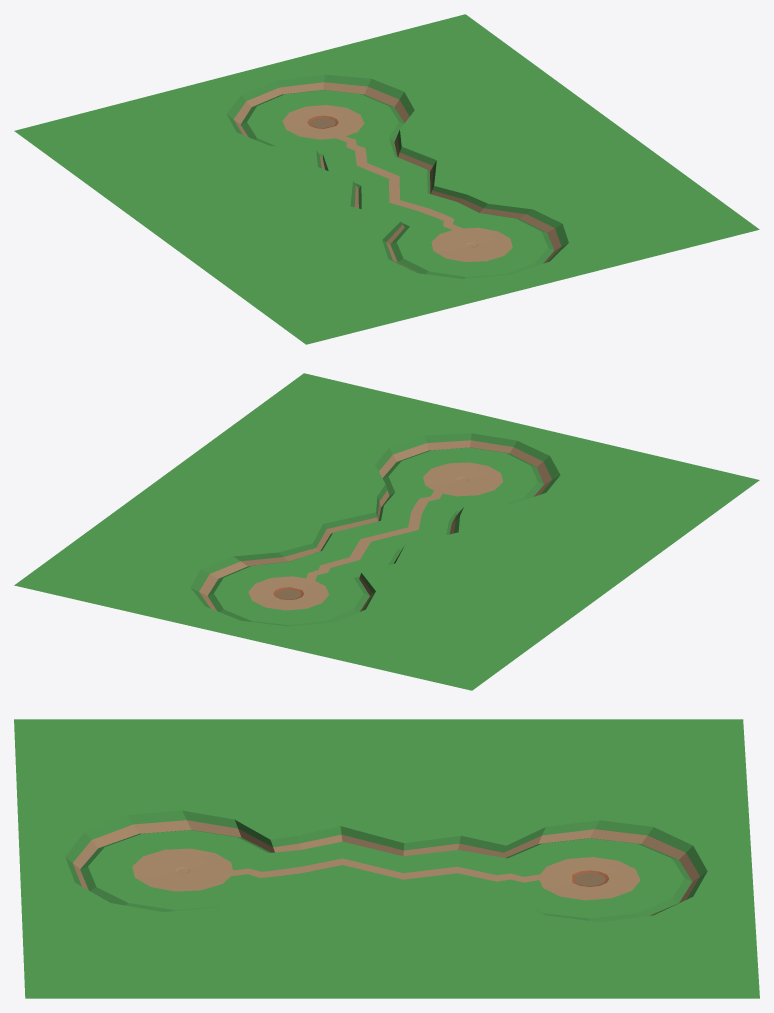
The model's file is hub_world_land.fbx.
3 renders of one model, top to bottom at view 1: azimuth 30°, elevation 25°; view 2: azimuth 150°, elevation 25°; view 3: azimuth 270°, elevation 25°, orthographic. The views are drawn at different scales.
Parts seen in each view (by area): view 1: Circle; view 2: Circle; view 3: Circle.
Part boxes in pixels (<box>): Circle: <box>14,14,759,344</box>; Circle: <box>14,373,759,690</box>; Circle: <box>14,719,759,998</box>.
Size of the model in its own units: 74.05 by 65.55 by 1.25.
